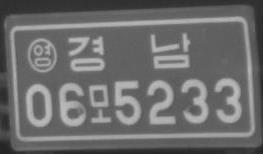0: (25, 82, 53, 127)
2: (147, 79, 176, 125)
3: (181, 78, 209, 125), (214, 77, 242, 124)
5: (114, 80, 141, 125)
6: (58, 82, 87, 127)
경남_D: (67, 31, 190, 73)
모: (88, 84, 111, 124)
영: (27, 37, 58, 73)
